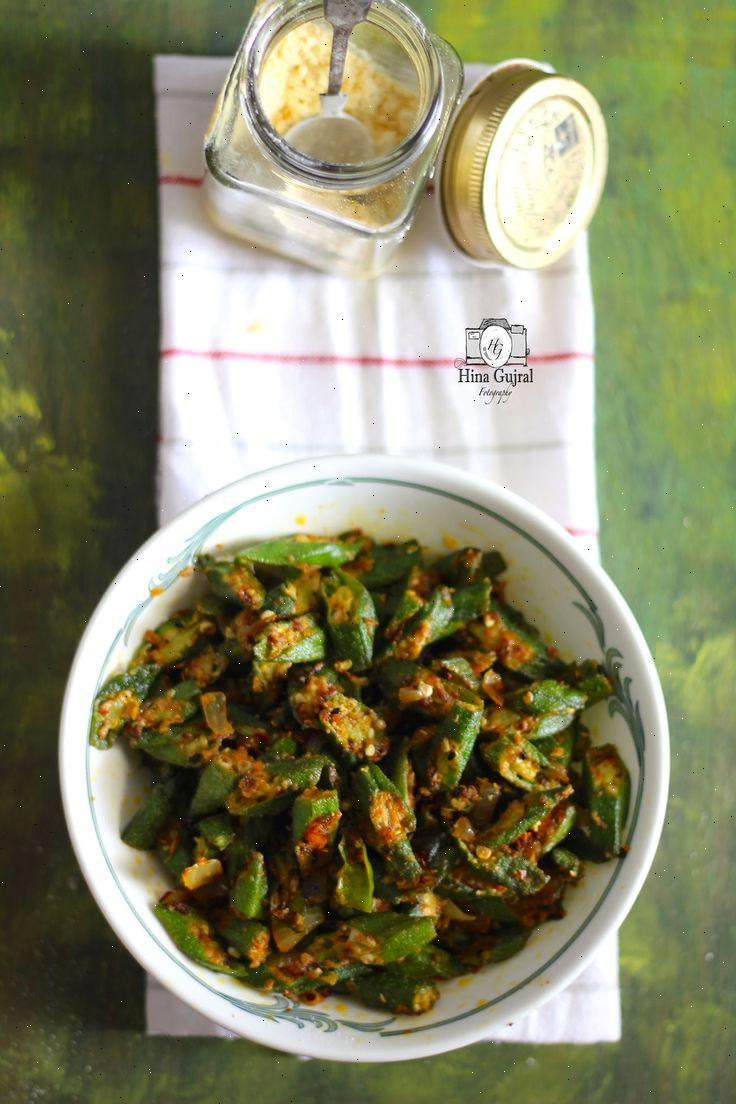bhindi: (140, 546, 581, 982)
